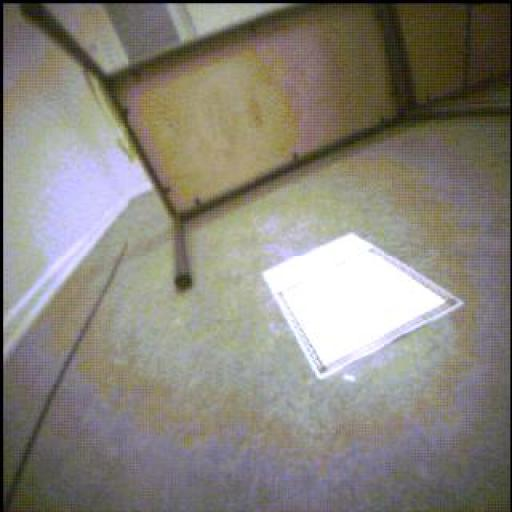Pad: (265, 235, 463, 380)
